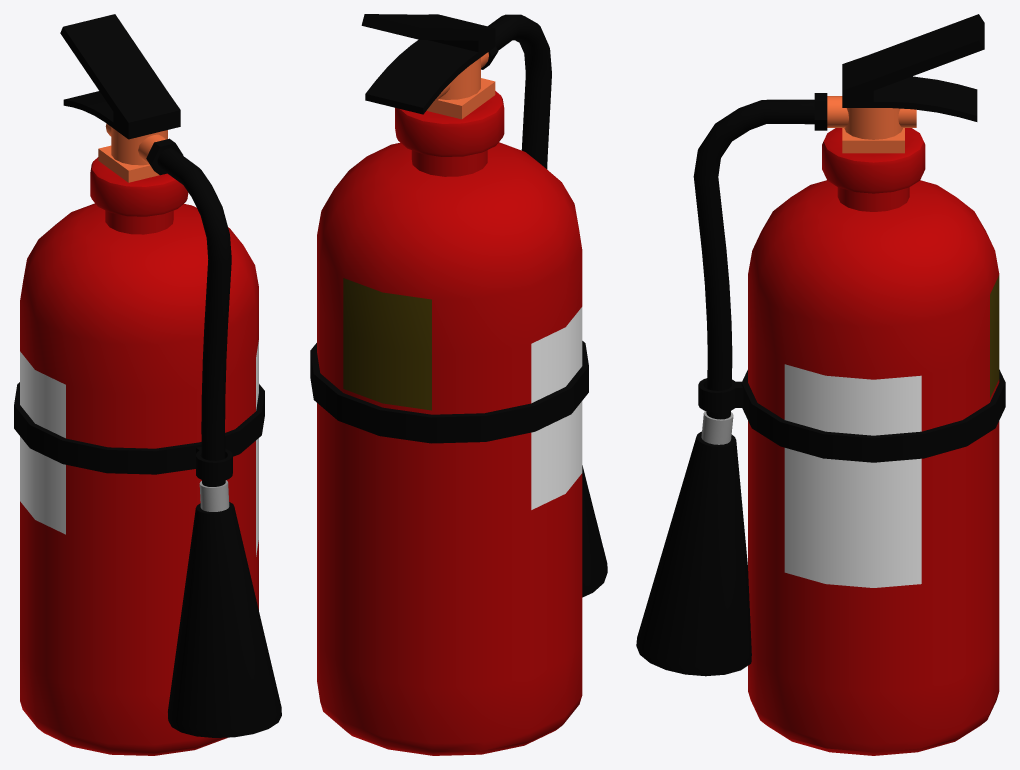
The model's file is Extinguisher.glb.
3 views of the same model, side by side, from view 1: azimuth 30°, elevation 25°; view 2: azimuth 150°, elevation 25°; view 3: azimuth 270°, elevation 25° (orthographic). The views are drawn at different scales.
Visible parts, largest first — view 1: Mesh_Extinguisher; view 2: Mesh_Extinguisher; view 3: Mesh_Extinguisher.
Part boxes in pixels (<box>): Mesh_Extinguisher: <box>14,14,281,755</box>; Mesh_Extinguisher: <box>310,14,607,755</box>; Mesh_Extinguisher: <box>636,14,1005,755</box>.
Bounding box in the file's own units: 0.21 × 0.5989 × 0.2938.
1 material, 1 textured.
